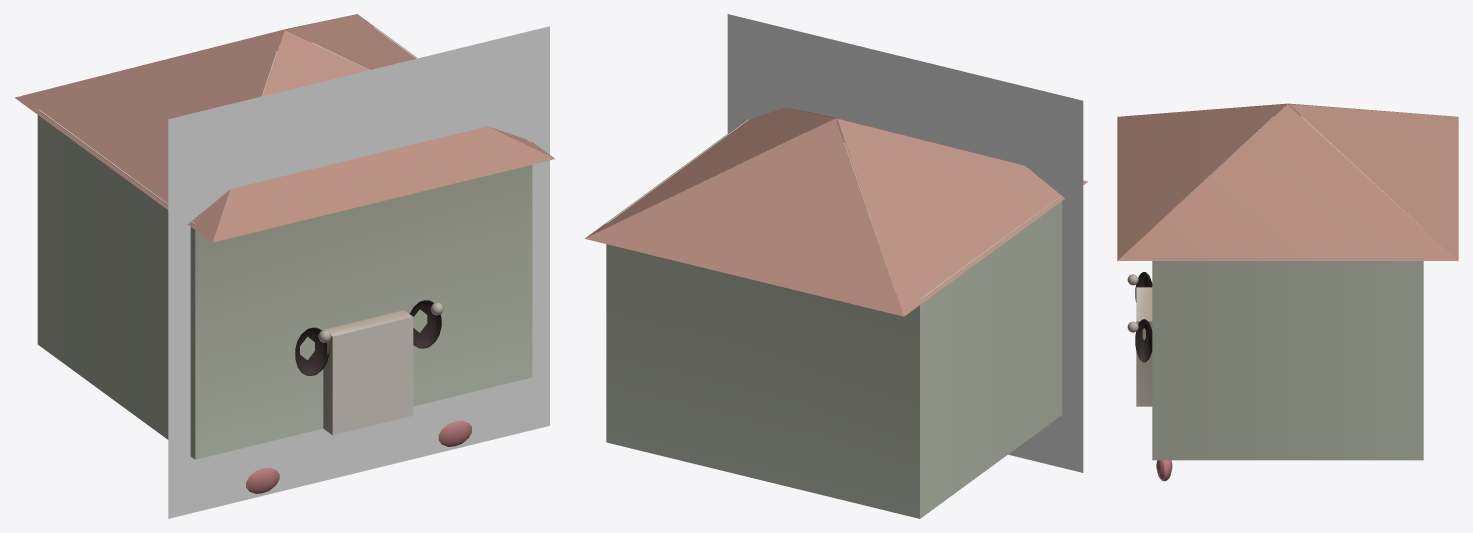
Rendered from pec46accf.glb.
The picture shows the model from 3 angles, left to right: view 1: azimuth 30°, elevation 25°; view 2: azimuth 150°, elevation 25°; view 3: azimuth 270°, elevation 25°; orthographic projection. The views are drawn at different scales.
Visible parts, largest first — view 1: pet_pec46accf; view 2: pet_pec46accf; view 3: pet_pec46accf.
Boxes of the visible parts, x1,y1,x2,y2 form: pet_pec46accf: (15, 14, 554, 518); pet_pec46accf: (584, 14, 1087, 518); pet_pec46accf: (1117, 103, 1458, 481).
Bounding box in the file's own units: 0.476 × 0.476 × 0.4277.
